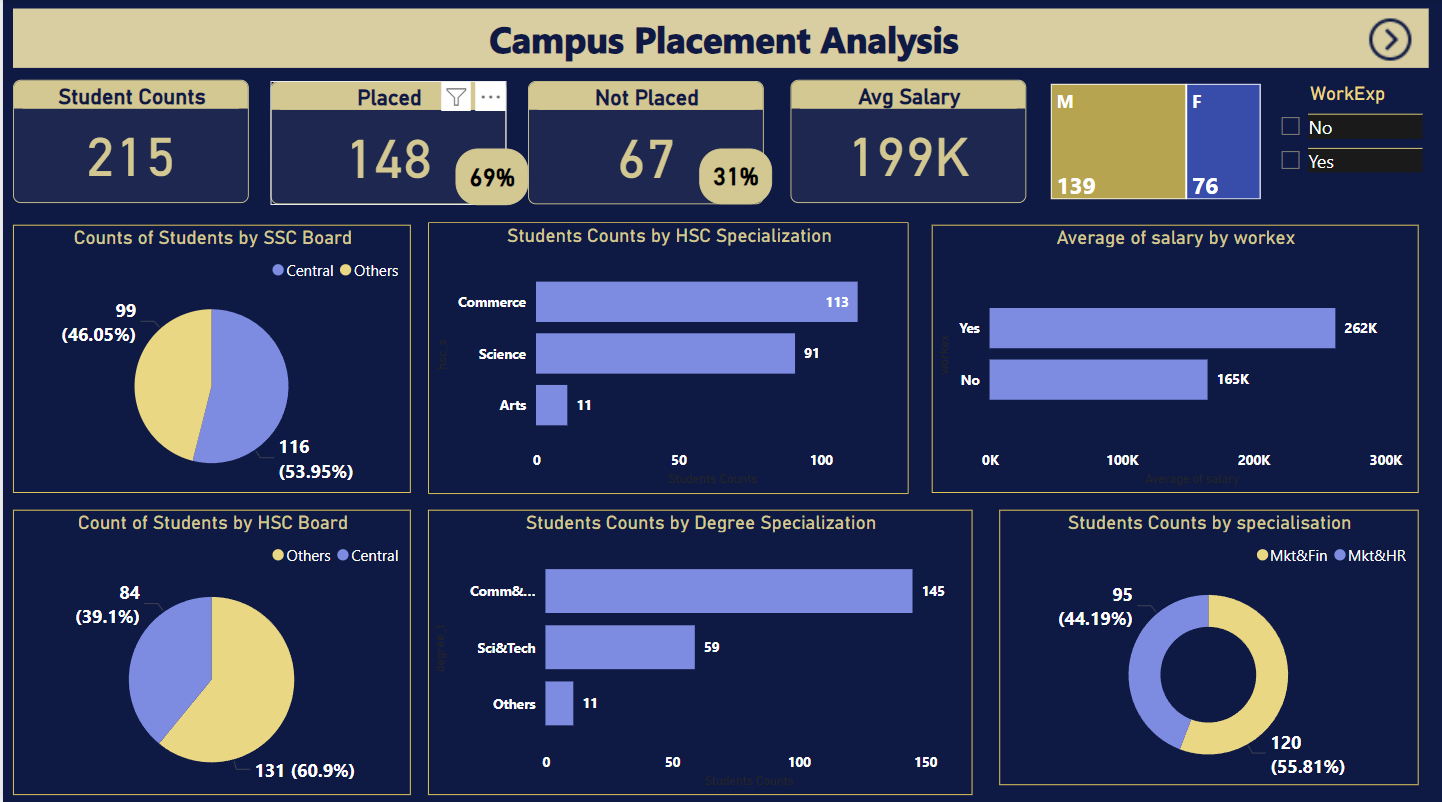

Layout of this report page (visuals, bound fields, positions):
{"tool":"powerbi","page":{"name":"Page 1","canvas":[1280,720],"ordinal":0},"visuals":[{"type":"textbox","box":[8.8,11.2,1258.8,52.5],"z":0},{"type":"card","title":"Student Counts","fields":{"Values":["Placement_Data_Full_Class.Students Counts"]},"box":[8.4,74.8,209.9,109.8],"z":1000},{"type":"card","title":"Placed","fields":{"Values":["Placement_Data_Full_Class.placed"]},"box":[237.7,76,209.9,109.8],"z":2000},{"type":"card","title":"Not Placed","fields":{"Values":["Placement_Data_Full_Class.Not Placed"]},"box":[466.9,76,209.9,109.8],"z":3000},{"type":"card","title":"Avg Salary","fields":{"Values":["Avg(Placement_Data_Full_Class.salary)"]},"box":[699.7,74.8,209.9,109.8],"z":4000},{"type":"treemap","title":"Gender","fields":{"Group":["Placement_Data_Full_Class.gender"],"Values":["Placement_Data_Full_Class.Students Counts"]},"box":[926.2,73.8,196.2,112.5],"z":5000},{"type":"pieChart","title":"Counts of Students by SSC Board","fields":{"Y":["Placement_Data_Full_Class.Students Counts"],"Category":["Placement_Data_Full_Class.ssc_b"]},"box":[8.8,203.8,353.8,238.8],"z":6000},{"type":"pieChart","title":"Count of Students by HSC Board","fields":{"Y":["Placement_Data_Full_Class.Students Counts"],"Category":["Placement_Data_Full_Class.hsc_b"]},"box":[8.8,456.2,353.8,253.8],"z":7000},{"type":"barChart","title":"Students Counts by Degree Specialization","fields":{"Category":["Placement_Data_Full_Class.degree_t"],"Y":["Placement_Data_Full_Class.Students Counts"]},"box":[377.5,456.2,483.8,253.8],"z":8000},{"type":"barChart","title":"Students Counts by HSC Specialization","fields":{"Y":["Placement_Data_Full_Class.Students Counts"],"Category":["Placement_Data_Full_Class.hsc_s"]},"box":[377.5,201.2,427.5,241.2],"z":9000},{"type":"barChart","fields":{"Category":["Placement_Data_Full_Class.workex"],"Y":["Avg(Placement_Data_Full_Class.salary)"]},"box":[825,203.8,432.5,238.8],"z":10000},{"type":"donutChart","fields":{"Category":["Placement_Data_Full_Class.specialisation"],"Y":["Placement_Data_Full_Class.Students Counts"]},"box":[885,456.2,372.5,245],"z":11000},{"type":"slicer","title":"WorkExp","fields":{"Values":["Placement_Data_Full_Class.workex"]},"box":[1123.8,76.2,143.8,101.2],"z":12000},{"type":"image","box":[1205,11.2,55,55],"z":13000},{"type":"card","fields":{"Values":["Placement_Data_Full_Class.placed%"]},"box":[401.7,135.1,65.1,50.7],"z":14000},{"type":"card","fields":{"Values":["Placement_Data_Full_Class.NotPlaced%"]},"box":[618.9,135.1,65.1,49.5],"z":15000}]}

Visuals, with their boxes in screenshot pixels (x1, y1, x2, y2), scaled from the page's 1280x720 canvas onto the 1442x802 screenshot:
textbox: 10, 12, 1428, 71
"Student Counts" card: 9, 83, 246, 206
"Placed" card: 268, 85, 504, 207
"Not Placed" card: 526, 85, 762, 207
"Avg Salary" card: 788, 83, 1025, 206
"Gender" treemap: 1043, 82, 1264, 208
"Counts of Students by SSC Board" pieChart: 10, 227, 408, 493
"Count of Students by HSC Board" pieChart: 10, 508, 408, 791
"Students Counts by Degree Specialization" barChart: 425, 508, 970, 791
"Students Counts by HSC Specialization" barChart: 425, 224, 907, 493
barChart - Placement_Data_Full_Class.workex x Avg(Placement_Data_Full_Class.salary): 929, 227, 1417, 493
donutChart - Placement_Data_Full_Class.specialisation x Placement_Data_Full_Class.Students Counts: 997, 508, 1417, 781
"WorkExp" slicer: 1266, 85, 1428, 198
image: 1358, 12, 1419, 74
card - Placement_Data_Full_Class.placed%: 453, 150, 526, 207
card - Placement_Data_Full_Class.NotPlaced%: 697, 150, 771, 206
